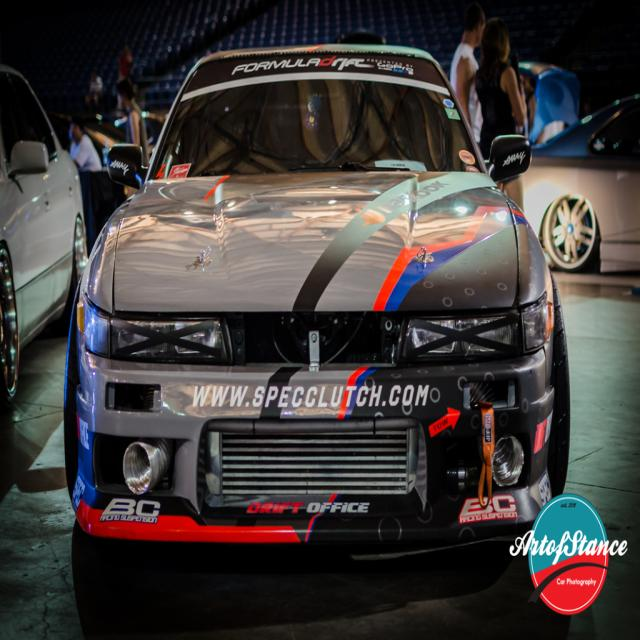car: (62, 30, 567, 596)
